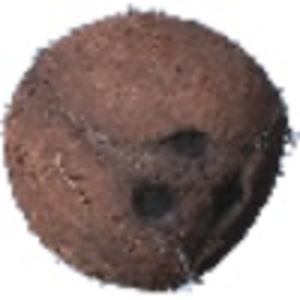coco: (3, 8, 300, 294)
